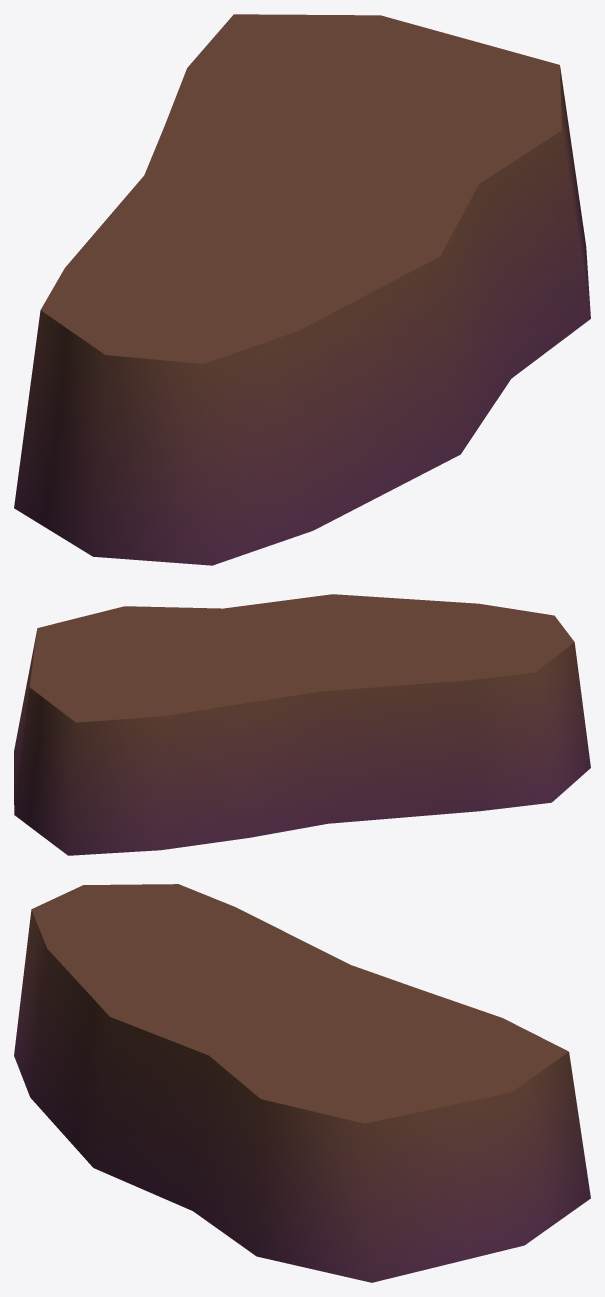
The picture shows the model from 3 angles, top to bottom: view 1: azimuth 30°, elevation 25°; view 2: azimuth 150°, elevation 25°; view 3: azimuth 270°, elevation 25°; orthographic projection. The views are drawn at different scales.
Parts seen in each view (by area): view 1: Cube.098; view 2: Cube.098; view 3: Cube.098.
Boxes of the visible parts, x1=… form: Cube.098: x1=14, y1=14, x2=590, y2=565; Cube.098: x1=14, y1=594, x2=590, y2=855; Cube.098: x1=14, y1=884, x2=590, y2=1282.
Size of the model in its own units: 17.76 by 4.69 by 16.61.
